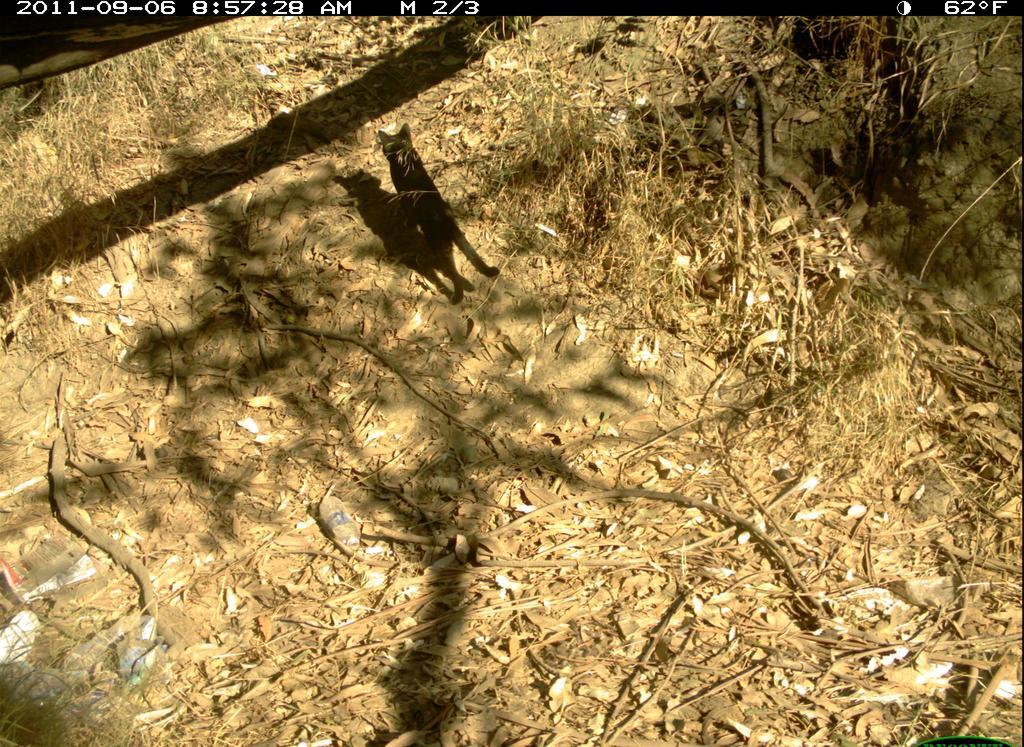cat: (373, 122, 506, 313)
